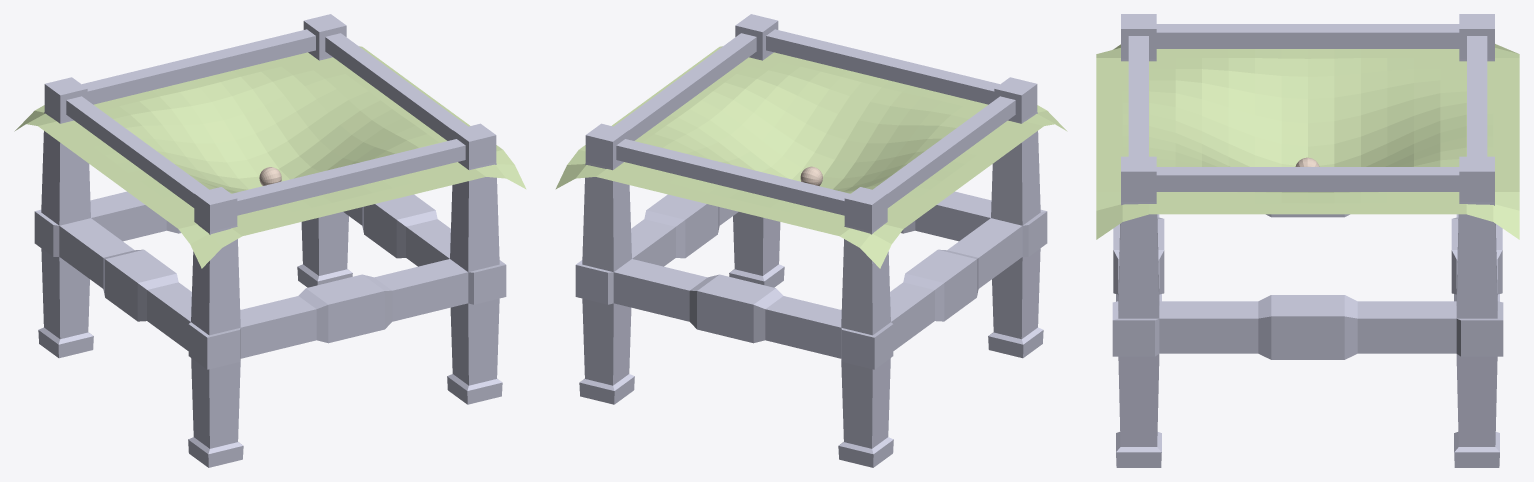
Rendered from Character_Rooms_EinsteinTable.fbx.
The picture shows the model from 3 angles, left to right: view 1: azimuth 30°, elevation 25°; view 2: azimuth 150°, elevation 25°; view 3: azimuth 270°, elevation 25°; orthographic projection. The views are drawn at different scales.
Visible parts, largest first — view 1: Sphere.001; view 2: Sphere.001; view 3: Sphere.001.
Boxes of the visible parts, x1,y1,x2,y2 form: Sphere.001: (14, 14, 526, 467); Sphere.001: (555, 14, 1067, 467); Sphere.001: (1096, 14, 1519, 467).
Bounding box in the file's own units: 203 × 157 × 203.
